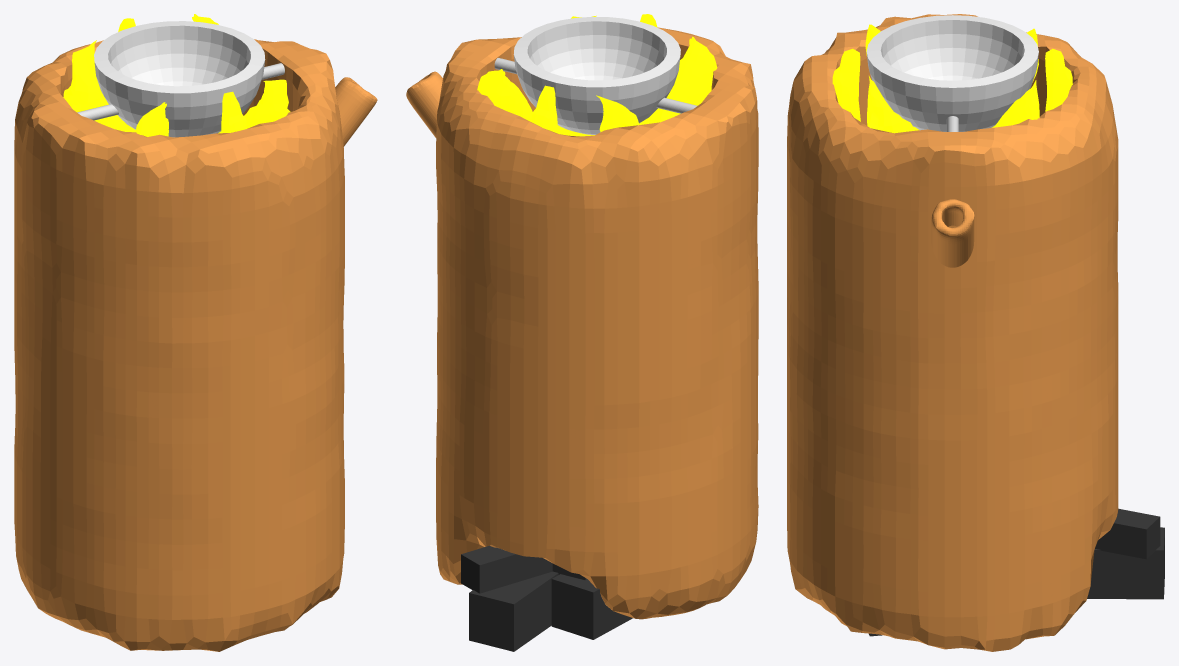
The model's file is Furnace1.glb.
3 renders of one model, left to right at view 1: azimuth 30°, elevation 25°; view 2: azimuth 150°, elevation 25°; view 3: azimuth 270°, elevation 25°, orthographic. The views are drawn at different scales.
Visible parts, largest first — view 1: Cylinder, Sphere, Sphere.001, Cylinder.001; view 2: Cylinder, Sphere, Sphere.001, Cube.002, Cube.001, Cube.005, Cylinder.001; view 3: Cylinder, Sphere, Sphere.001, Cube.002, Cylinder.001, Cube.005.
Part boxes in pixels (<box>): Cylinder: <box>14,39,344,651</box>; Sphere: <box>94,21,265,137</box>; Sphere.001: <box>63,14,290,136</box>; Cylinder.001: <box>335,77,377,146</box>; Cylinder: <box>436,27,758,619</box>; Sphere: <box>513,16,680,134</box>; Sphere.001: <box>477,14,717,136</box>; Cube.002: <box>469,571,558,651</box>; Cube.001: <box>551,574,632,639</box>; Cube.005: <box>461,545,552,593</box>; Cylinder.001: <box>406,71,442,137</box>; Cylinder: <box>787,14,1118,651</box>; Sphere: <box>866,15,1038,131</box>; Sphere.001: <box>832,24,1072,133</box>; Cube.002: <box>1087,527,1164,599</box>; Cylinder.001: <box>931,199,974,267</box>; Cube.005: <box>1095,508,1160,559</box>.
Size of the model in its own units: 2.34 by 3.56 by 2.27.
